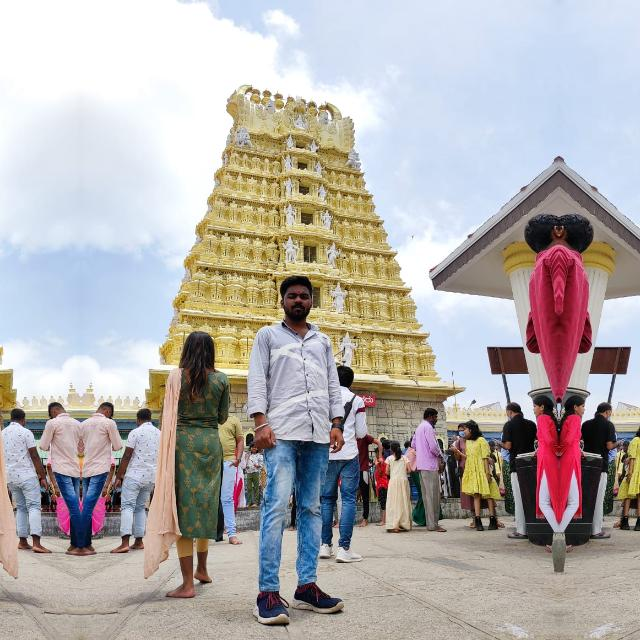person: (256, 277, 336, 638), (148, 322, 228, 594), (494, 396, 538, 532), (580, 396, 624, 532), (558, 391, 592, 549), (526, 391, 558, 549), (409, 396, 445, 522), (452, 417, 492, 529), (0, 322, 12, 594), (626, 417, 640, 529)
